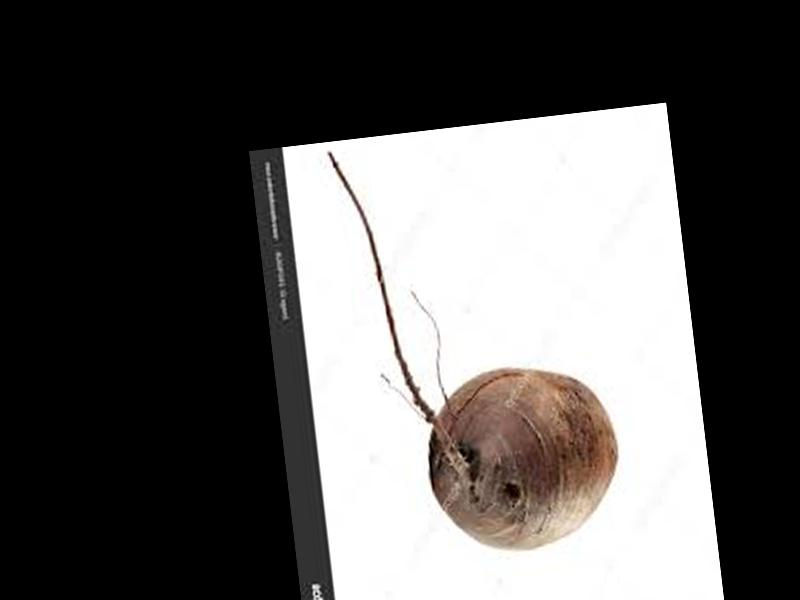Beet: (326, 121, 625, 565)
